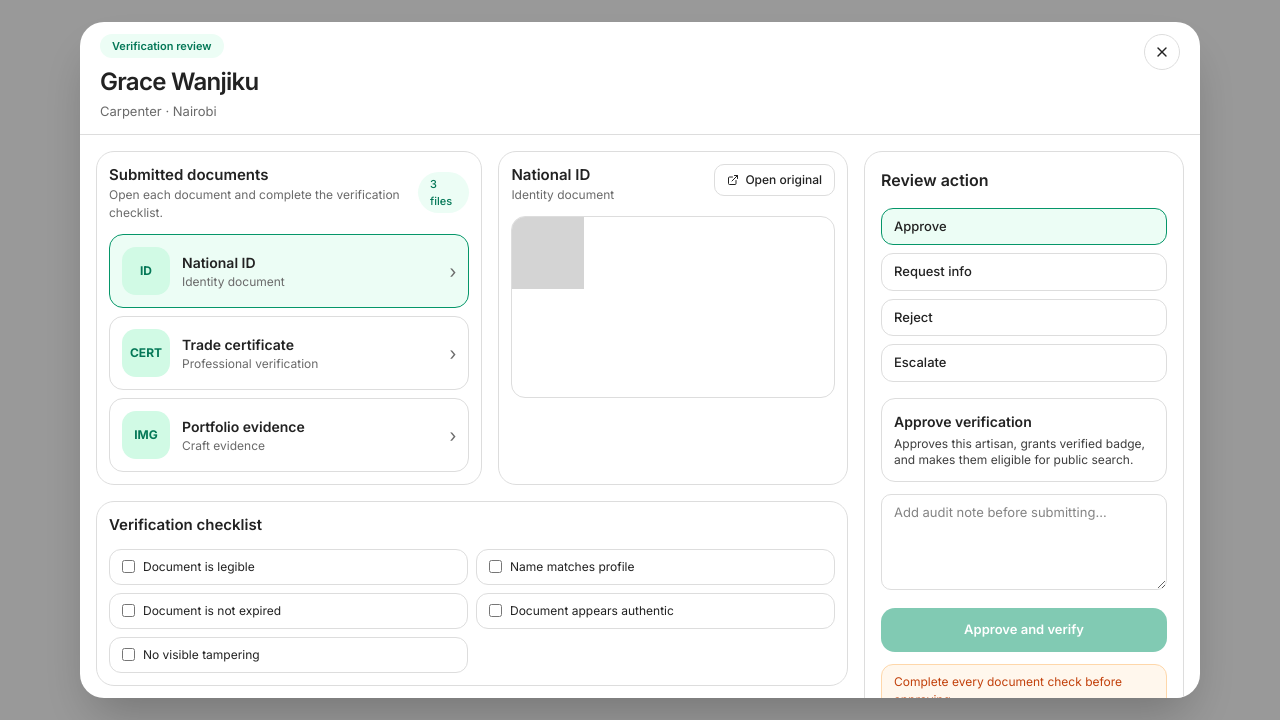
Test case: ArtisanVerificationReviewModal › disables the Approve CTA until all checklist items are checked
This screenshot has width=1280, height=720.
Expected: the button "Approve and verify" is disabled, left=881, top=608, right=1167, bottom=652
Click the checkbox labelled "Document is legible": (128, 567) left=122, top=560, right=135, bottom=573
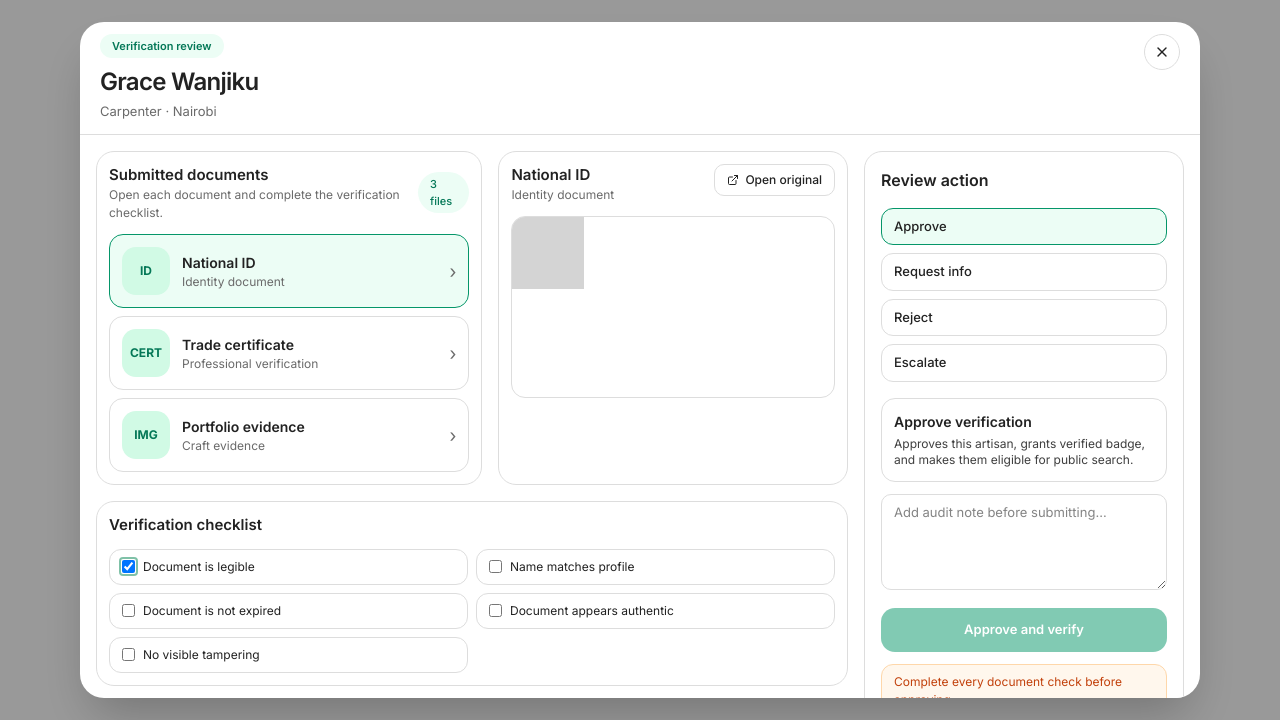
Click the checkbox labelled "Name matches profile": (496, 567) left=489, top=560, right=502, bottom=573
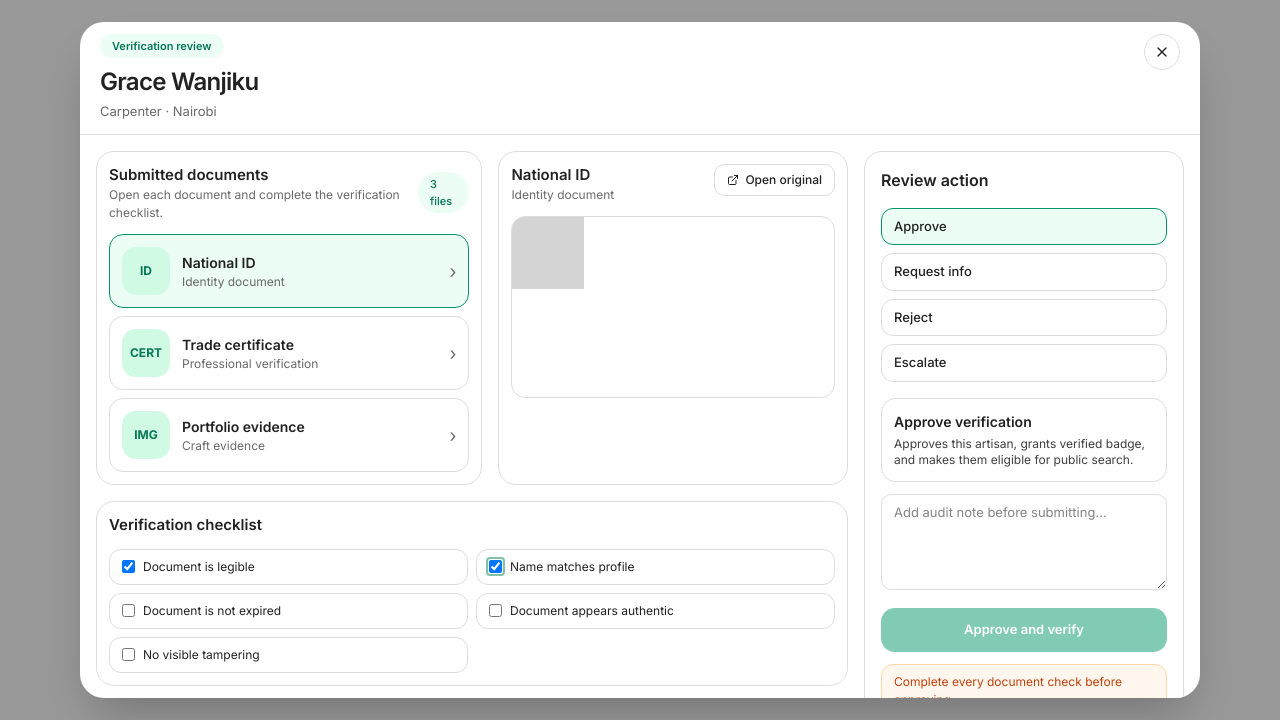
Click the checkbox labelled "Document is not expired": (128, 611) left=122, top=604, right=135, bottom=617
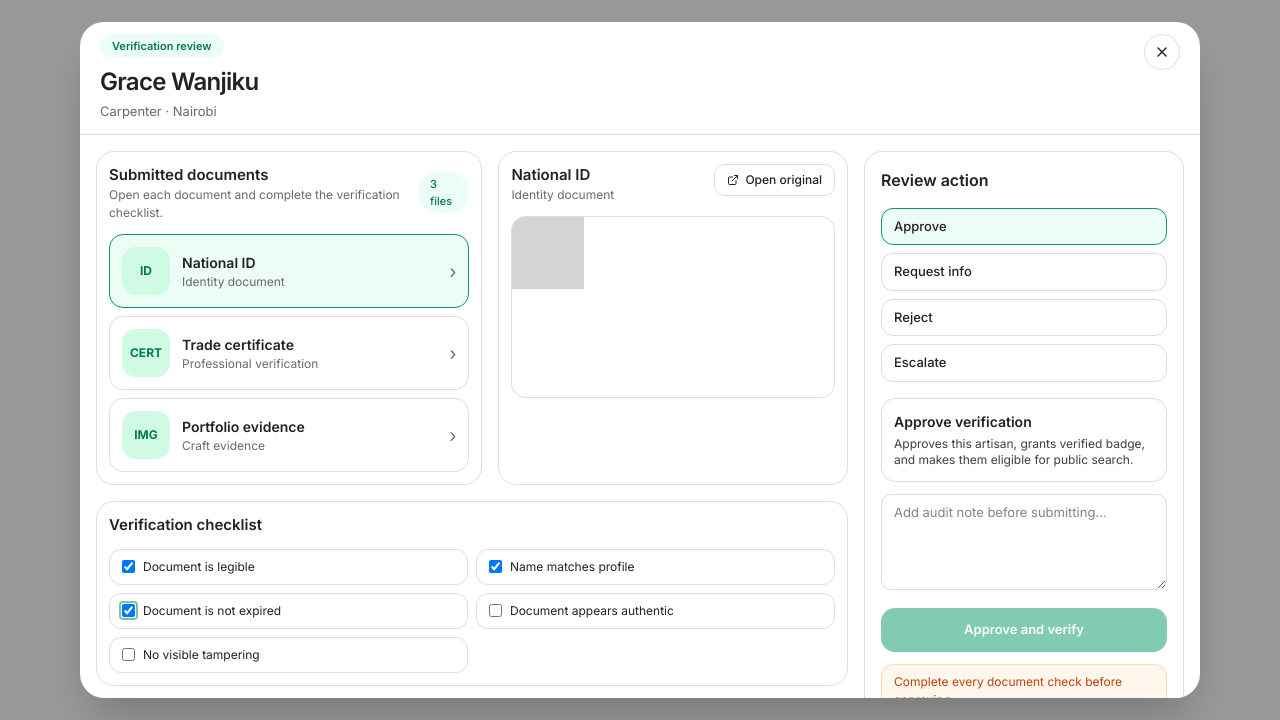
Click the checkbox labelled "Document appears authentic": (496, 611) left=489, top=604, right=502, bottom=617
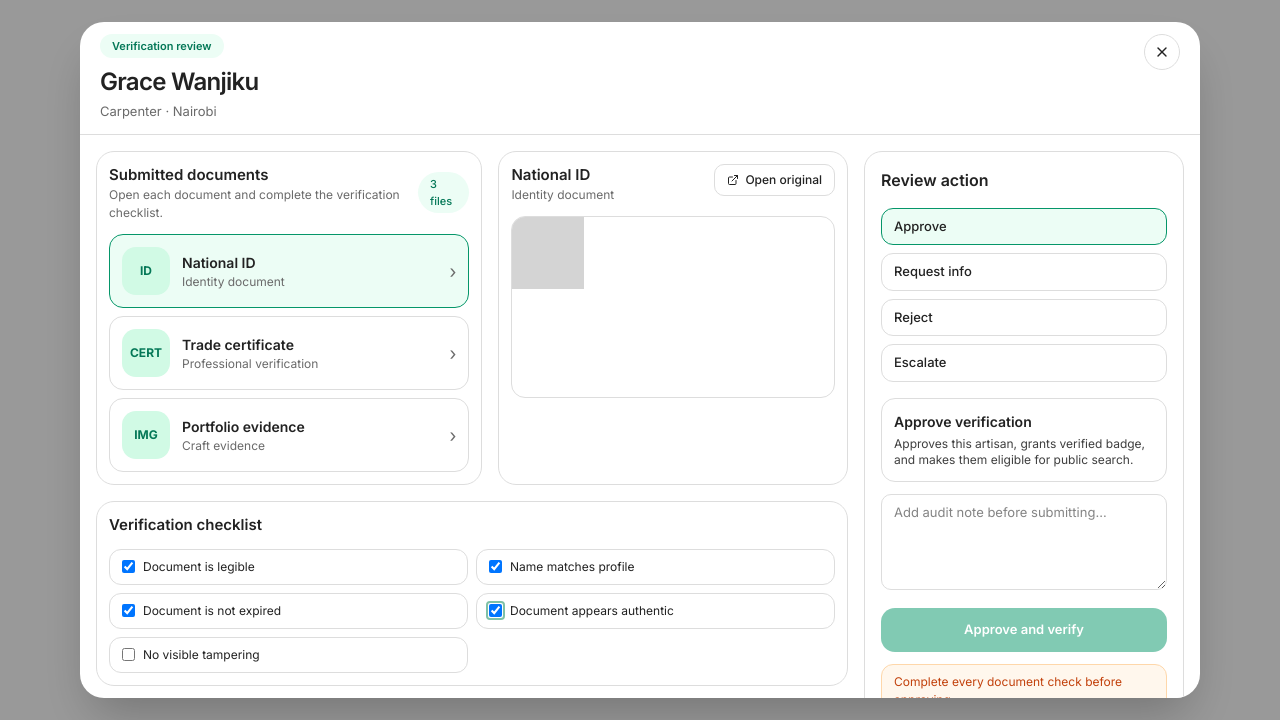
Click the checkbox labelled "No visible tampering": (128, 655) left=122, top=648, right=135, bottom=661
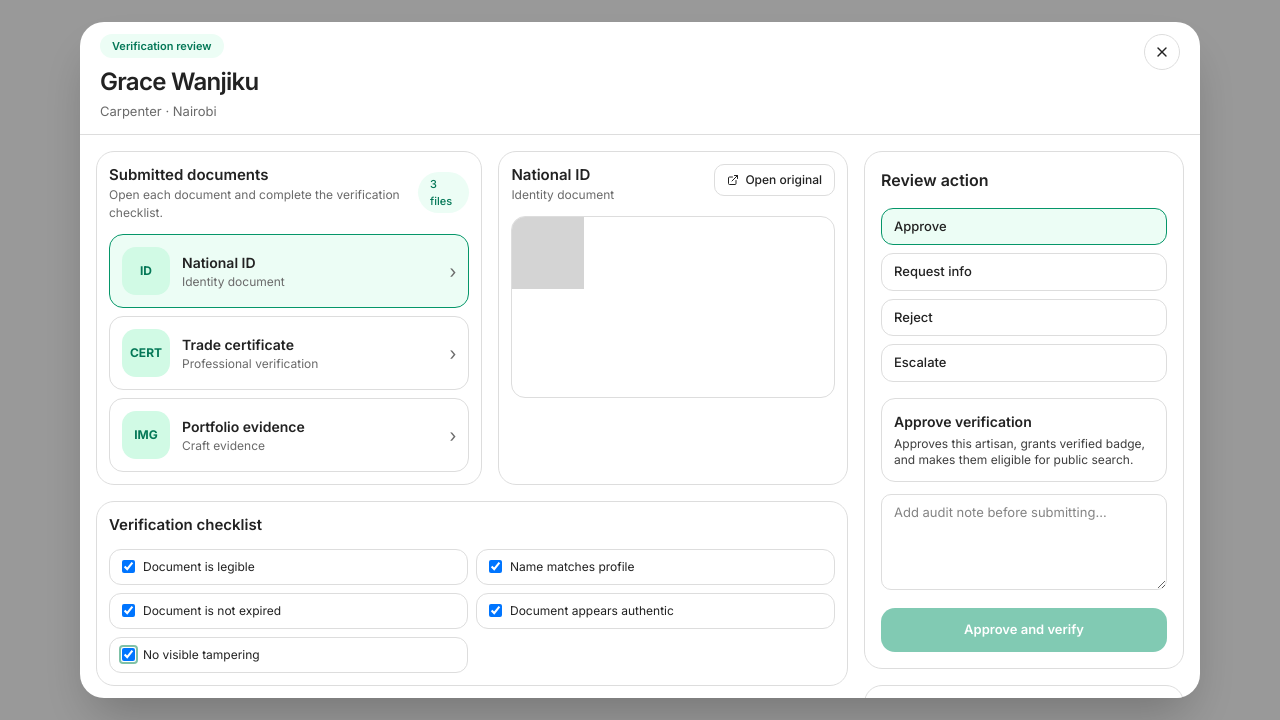
In the text box with placeholder "Add audit note before submitting…": (1024, 542) left=881, top=494, right=1167, bottom=590, type "All documents verified and clear."
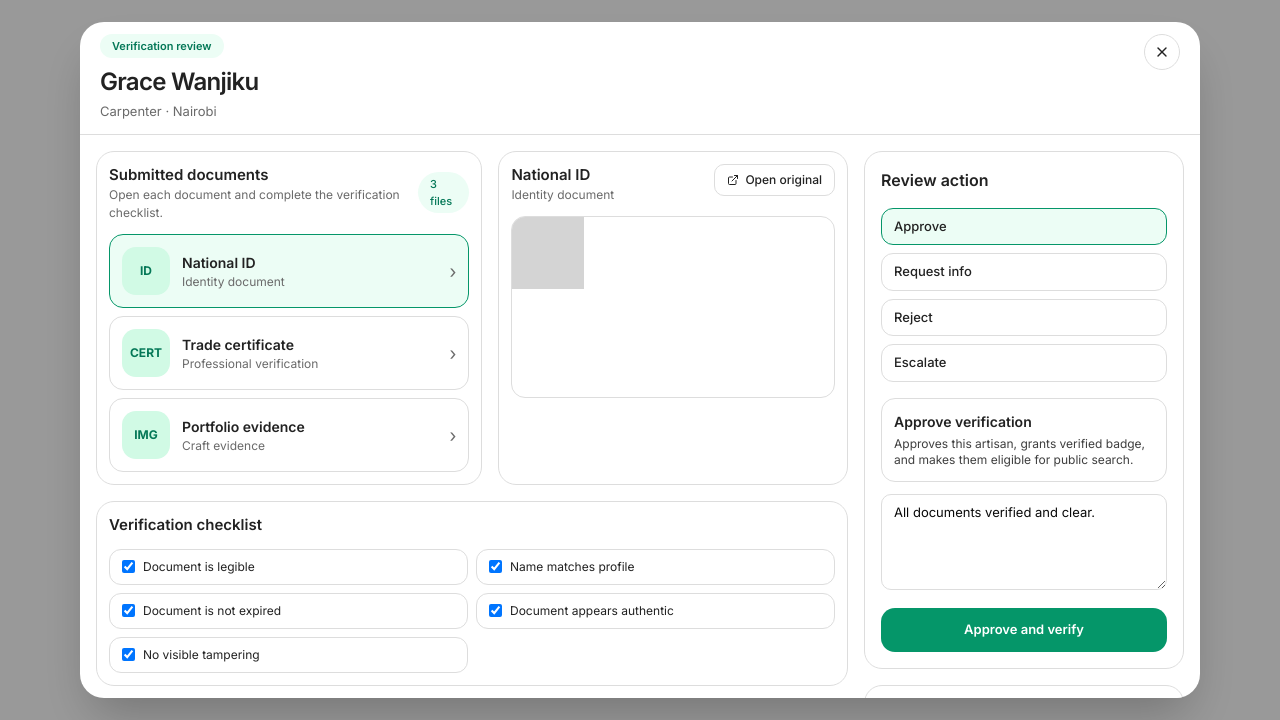
Expected: the button "Approve and verify" is enabled, left=881, top=608, right=1167, bottom=652
